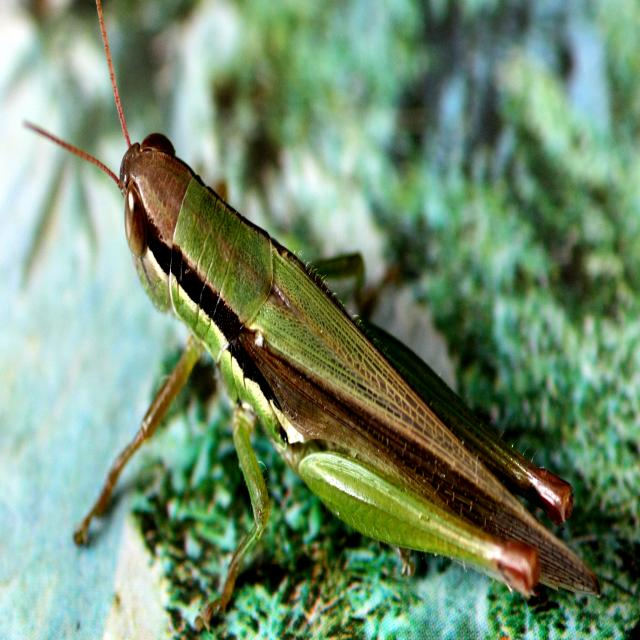ZhaMeng: (69, 57, 614, 621)
